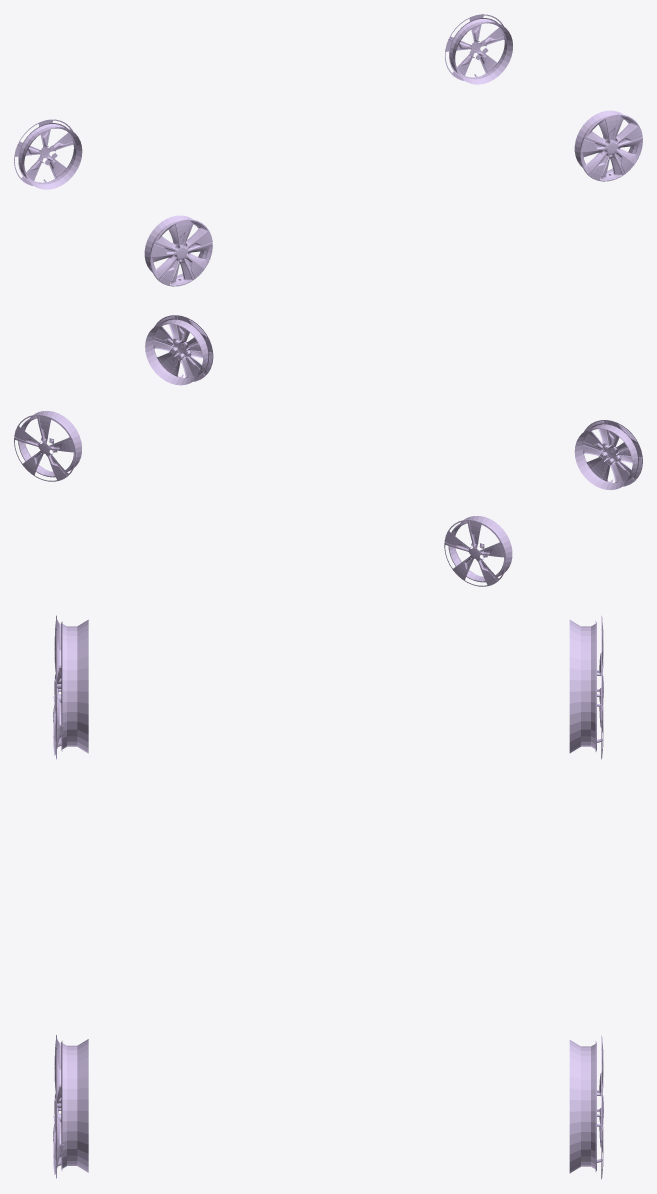
Rendered from Tire_R1P.glb.
The picture shows the model from 3 angles, top to bottom: view 1: azimuth 30°, elevation 25°; view 2: azimuth 150°, elevation 25°; view 3: azimuth 270°, elevation 25°; orthographic projection. The views are drawn at different scales.
Parts seen in each view (by area): view 1: Tire_R1P011, Tire_R1P012, Tire_R1P009, Tire_R1P013, Tire_R1P008, Tire_R1P010; view 2: Tire_R1P012, Tire_R1P011, Tire_R1P013, Tire_R1P009, Tire_R1P008, Tire_R1P010; view 3: Tire_R1P011, Tire_R1P012, Tire_R1P013, Tire_R1P009, Tire_R1P008, Tire_R1P010.
Boxes of the visible parts, x1,y1,x2,y2 form: Tire_R1P011: (445,14,512,84); Tire_R1P012: (14,119,82,189); Tire_R1P009: (574,110,642,181); Tire_R1P013: (144,215,212,286); Tire_R1P008: (581,115,641,180); Tire_R1P010: (151,220,211,285); Tire_R1P012: (444,516,512,586); Tire_R1P011: (14,411,81,481); Tire_R1P013: (574,420,642,490); Tire_R1P009: (145,315,213,385); Tire_R1P008: (153,316,212,378); Tire_R1P010: (583,421,641,482); Tire_R1P011: (569,1035,603,1179); Tire_R1P012: (569,615,603,759); Tire_R1P013: (54,615,88,759); Tire_R1P009: (54,1035,88,1178); Tire_R1P008: (53,1039,63,1174); Tire_R1P010: (53,619,63,755).
Bounding box in the file's own units: 3.93 × 0.499 × 1.9.
